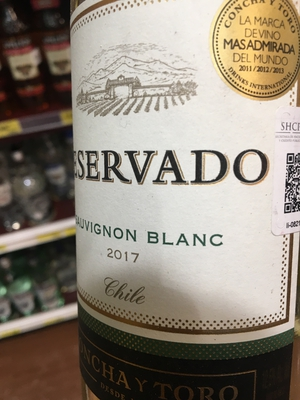reservado sauvignon blanc: (66, 3, 298, 396)
